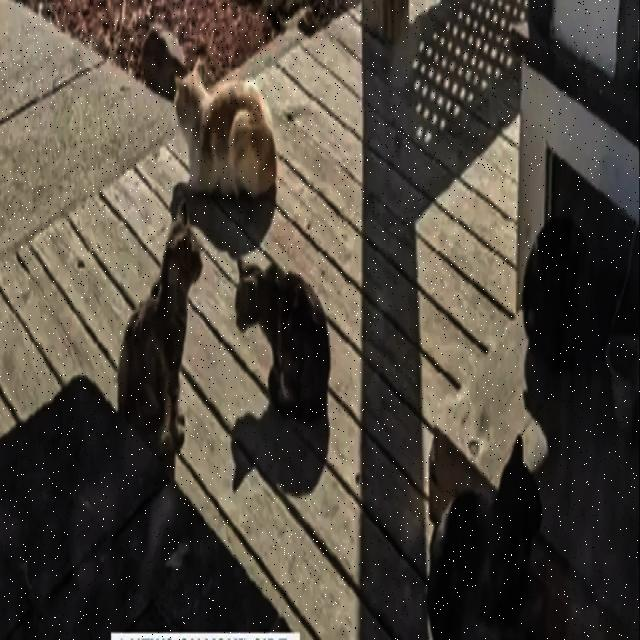cat: (428, 437, 541, 638), (118, 201, 201, 458), (236, 262, 330, 418), (175, 68, 276, 197)
